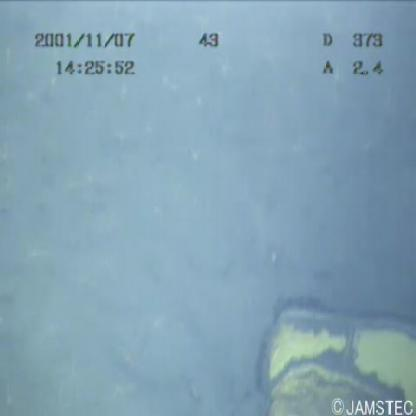Rác: (247, 286, 416, 416)
